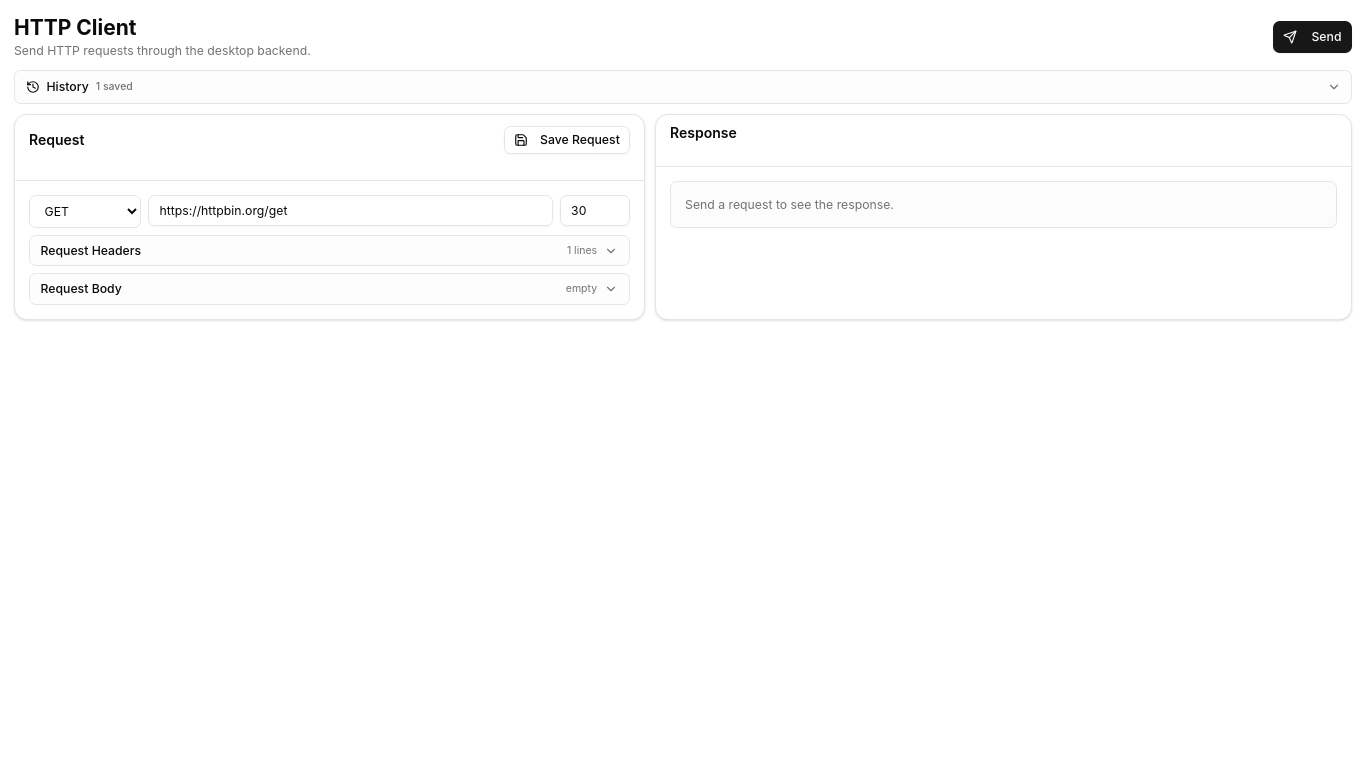
HTTPClientView › opens history rows in a replay modal before loading the request
Step 1. Click the button with test id "http-history-trigger" → (68, 86), box [15,71,1351,102]
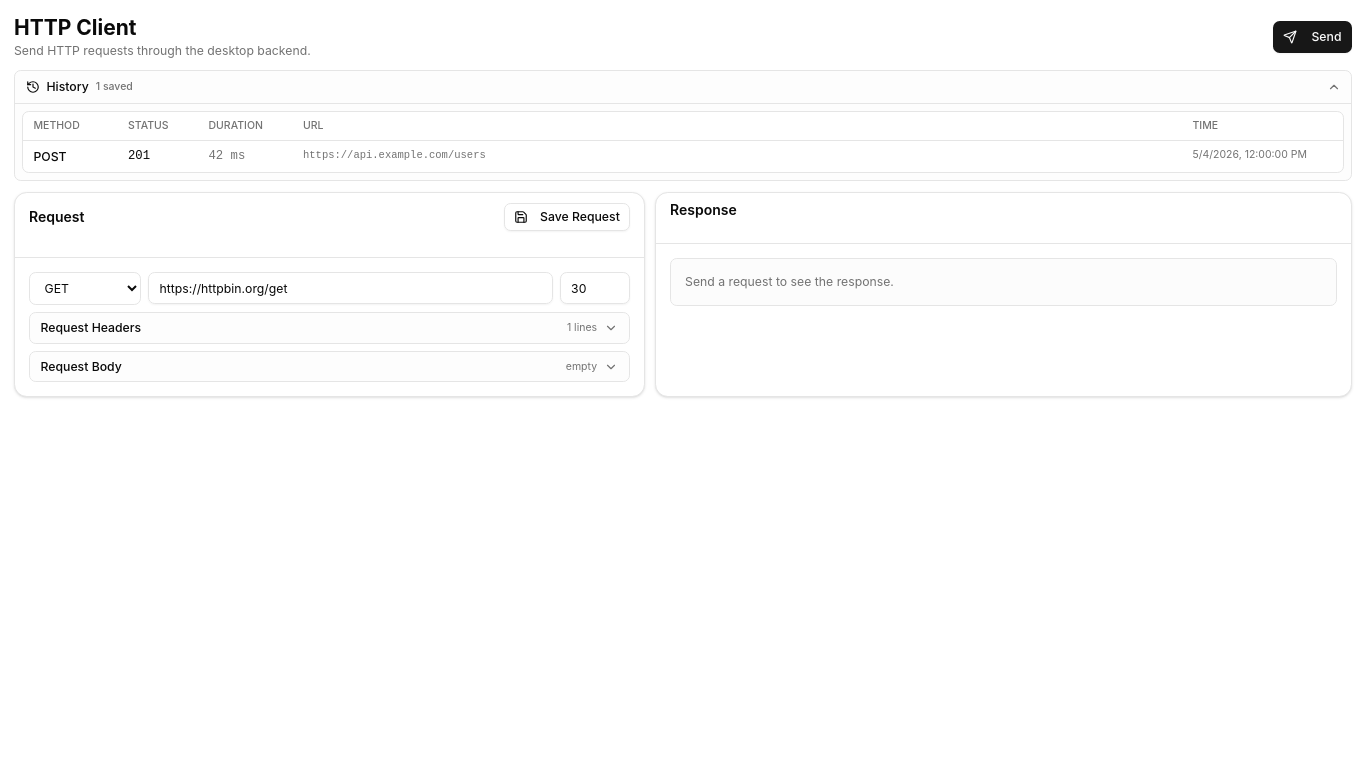
Check: the element with test id "http-history-list" is shown, box [22,110,1344,173]
Step 2. Click the text "https://api.example.com/users" → (394, 154), box [303,148,486,160]
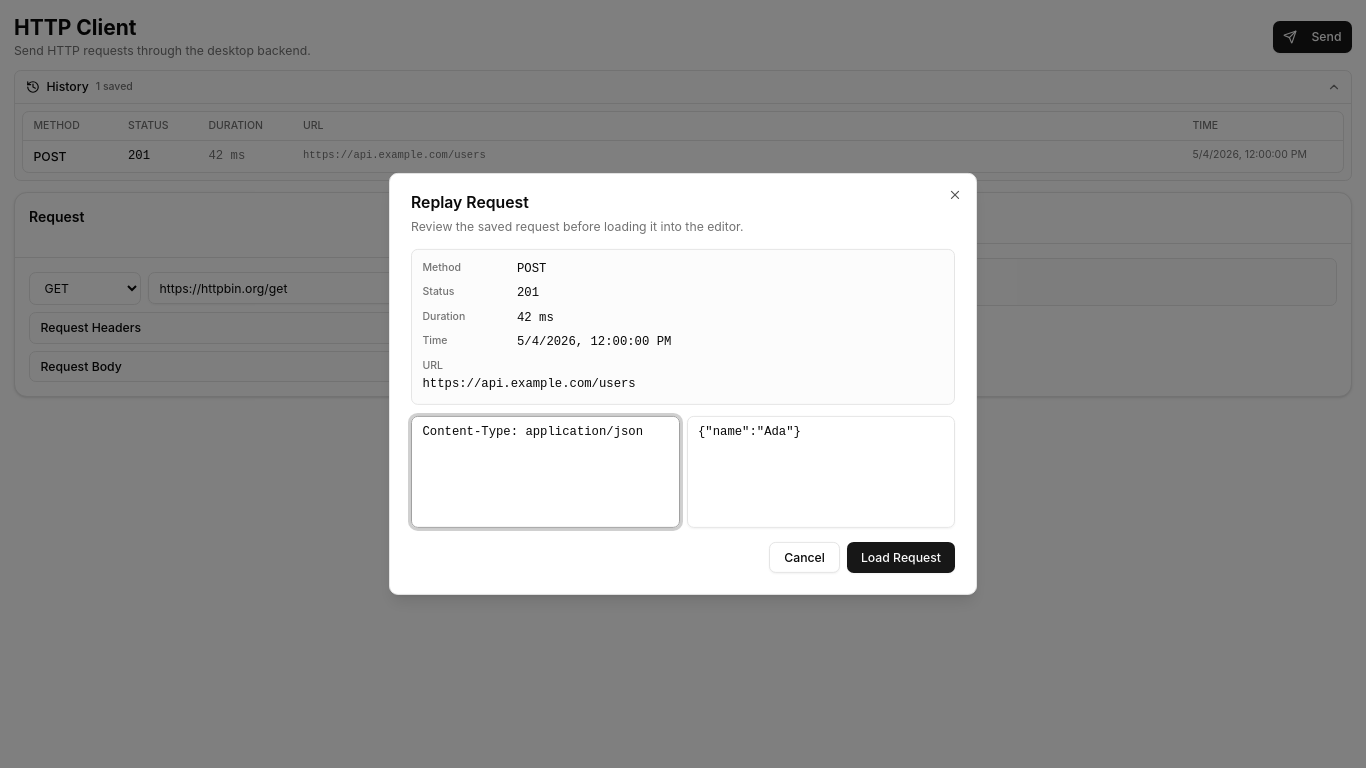
Check: the heading "Replay Request" is shown, box [411,193,529,212]
Check: the text "Review the saved request before loading it into the editor." is shown, box [411,219,743,234]
Step 3. Click the button "Load Request" → (901, 557), box [847,542,955,573]
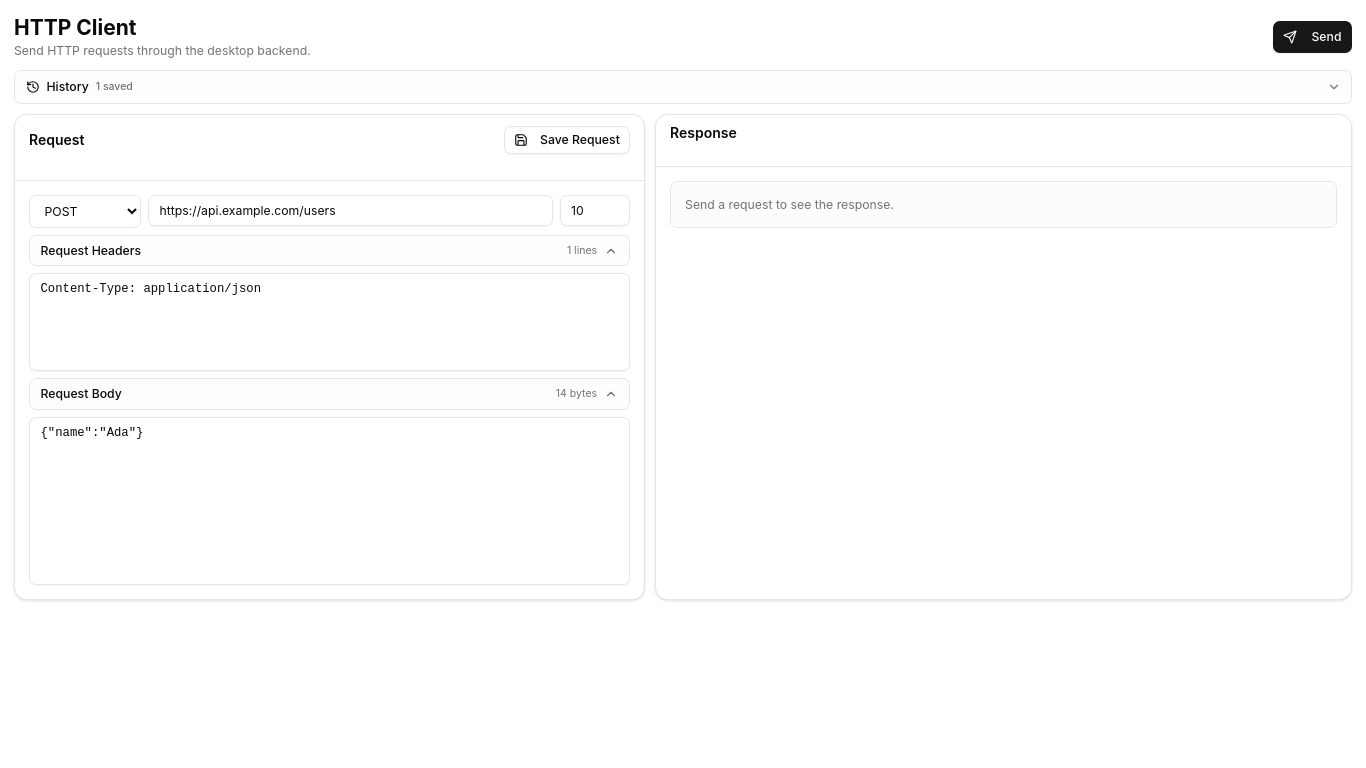
Check: the 1st text box showing "Content-Type: application/json" is shown, box [29,273,630,371]
Check: the 2nd text box showing "{\"name\":\"Ada\"}" is shown, box [29,417,630,585]
Check: the field showing "https://api.example.com/users" is shown, box [148,195,553,226]
